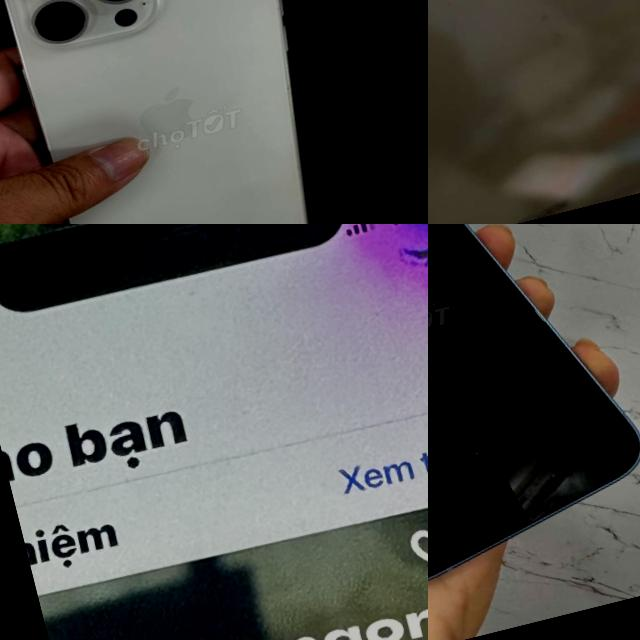gen_11: (0, 224, 428, 640)
gen_14: (428, 224, 640, 623)
gen_15: (0, 0, 379, 224)
gen_7_8: (428, 0, 640, 224)
scratch: (0, 0, 162, 59), (467, 439, 500, 469), (546, 462, 570, 487)
screen_defect: (331, 224, 428, 349)
